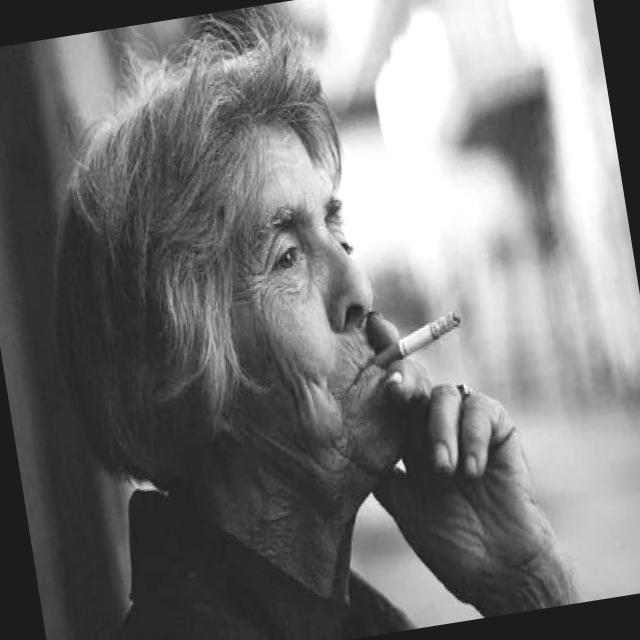cigarette: (364, 304, 472, 378)
